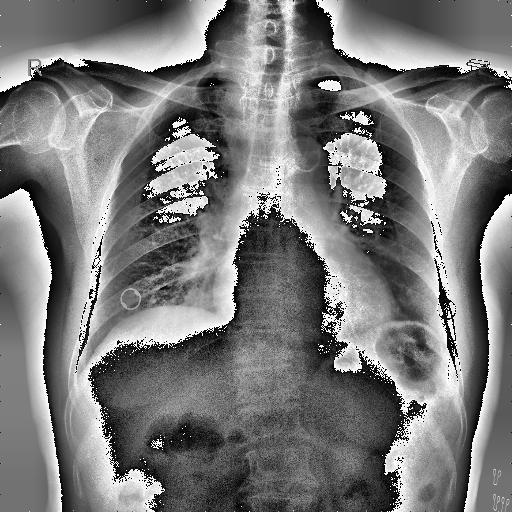0- Aortic enlargement: (278, 131, 337, 213), (270, 134, 332, 205), (283, 136, 331, 178)
2- Calcification: (300, 148, 321, 170)
3- Cardiomegaly: (210, 252, 405, 330), (214, 278, 404, 338)
